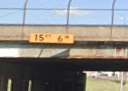1: (32, 32, 39, 42)
5: (37, 32, 45, 43)
6: (55, 33, 64, 43)
overheadsign: (28, 32, 75, 43)
